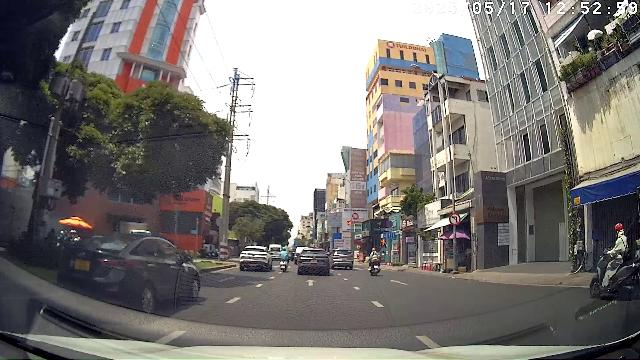123a-cam-re-trai: (449, 213, 461, 225)
